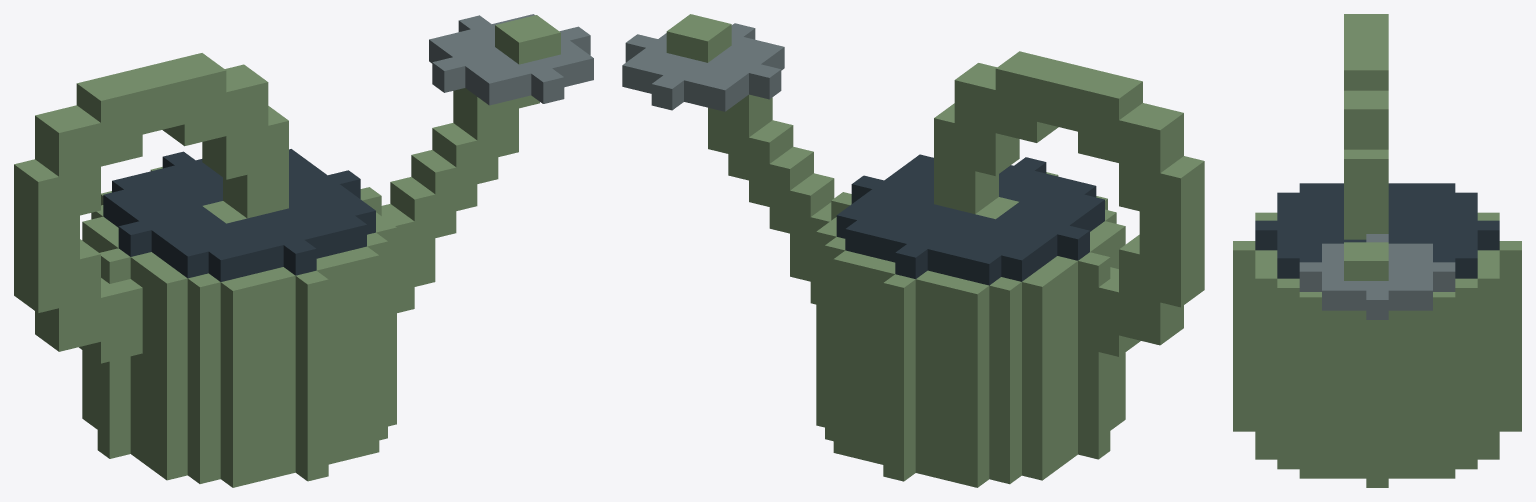
File: gardening-03.glb
3 renders of one model, left to right at view 1: azimuth 30°, elevation 25°; view 2: azimuth 150°, elevation 25°; view 3: azimuth 270°, elevation 25°, orthographic. The views are drawn at different scales.
Visible parts, largest first — view 1: Watering can; view 2: Watering can; view 3: Watering can.
Part boxes in pixels (x1,y1,x2,y2): Watering can: (14, 14, 593, 487); Watering can: (622, 14, 1204, 487); Watering can: (1233, 14, 1521, 487).
Size of the model in its own units: 2.16 by 1.36 by 1.04.
